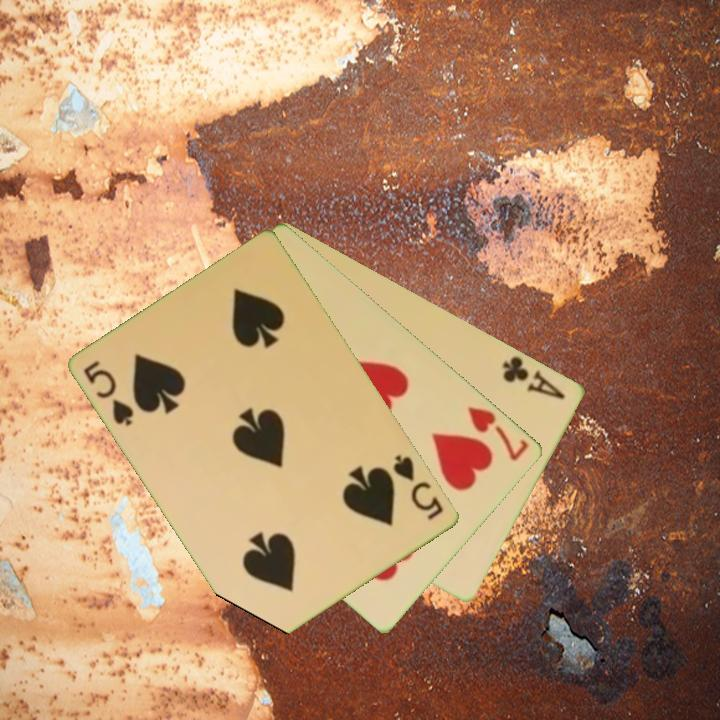5s: (80, 357, 138, 430), (390, 450, 447, 523)
7h: (464, 402, 533, 464)
Ac: (499, 352, 568, 402)
